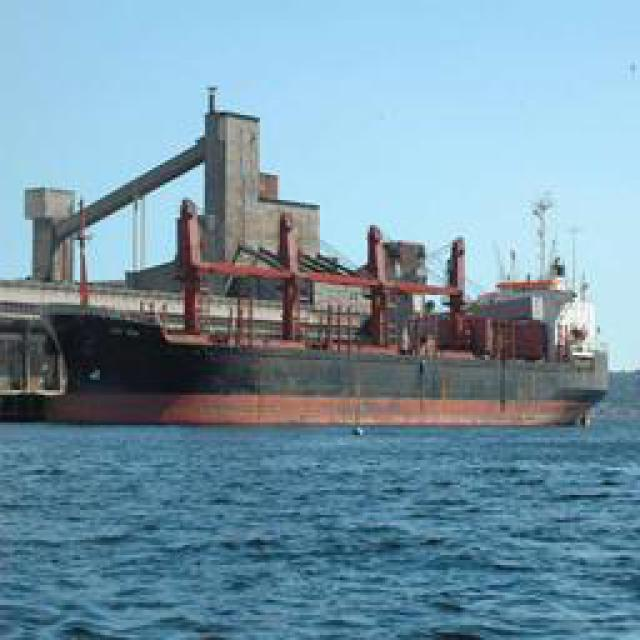Ship: (16, 274, 616, 444)
